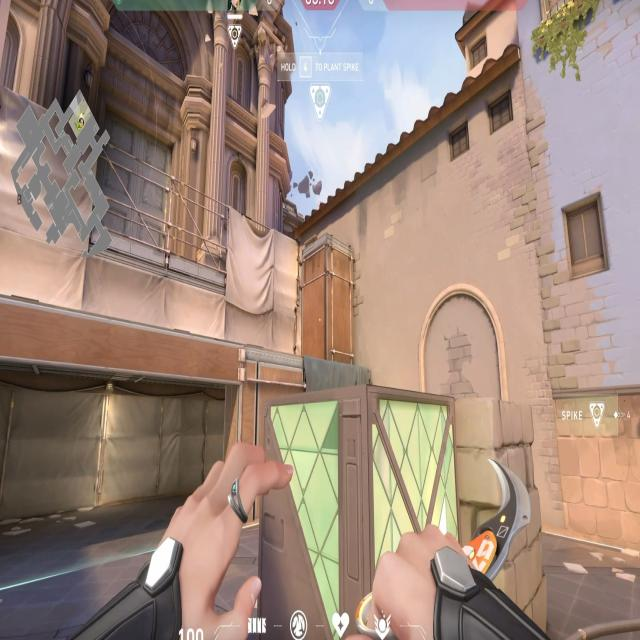A_Heaven_Box: (295, 223, 359, 365)
A_Hell: (0, 283, 233, 582)
A_Site_Box: (262, 379, 544, 639)
